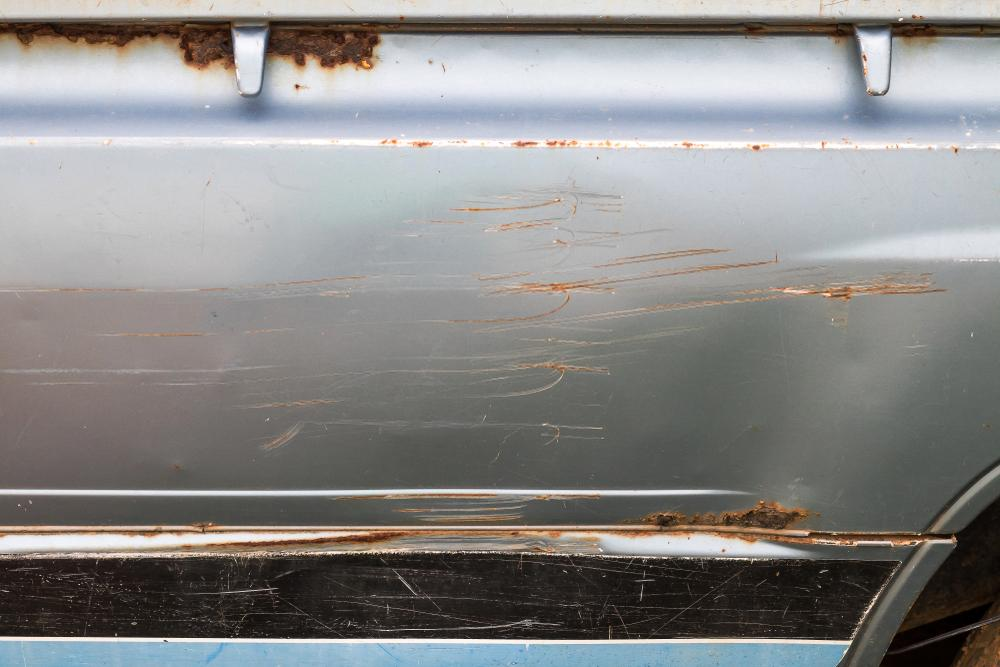scratch: (0, 192, 963, 450), (0, 495, 758, 634)
